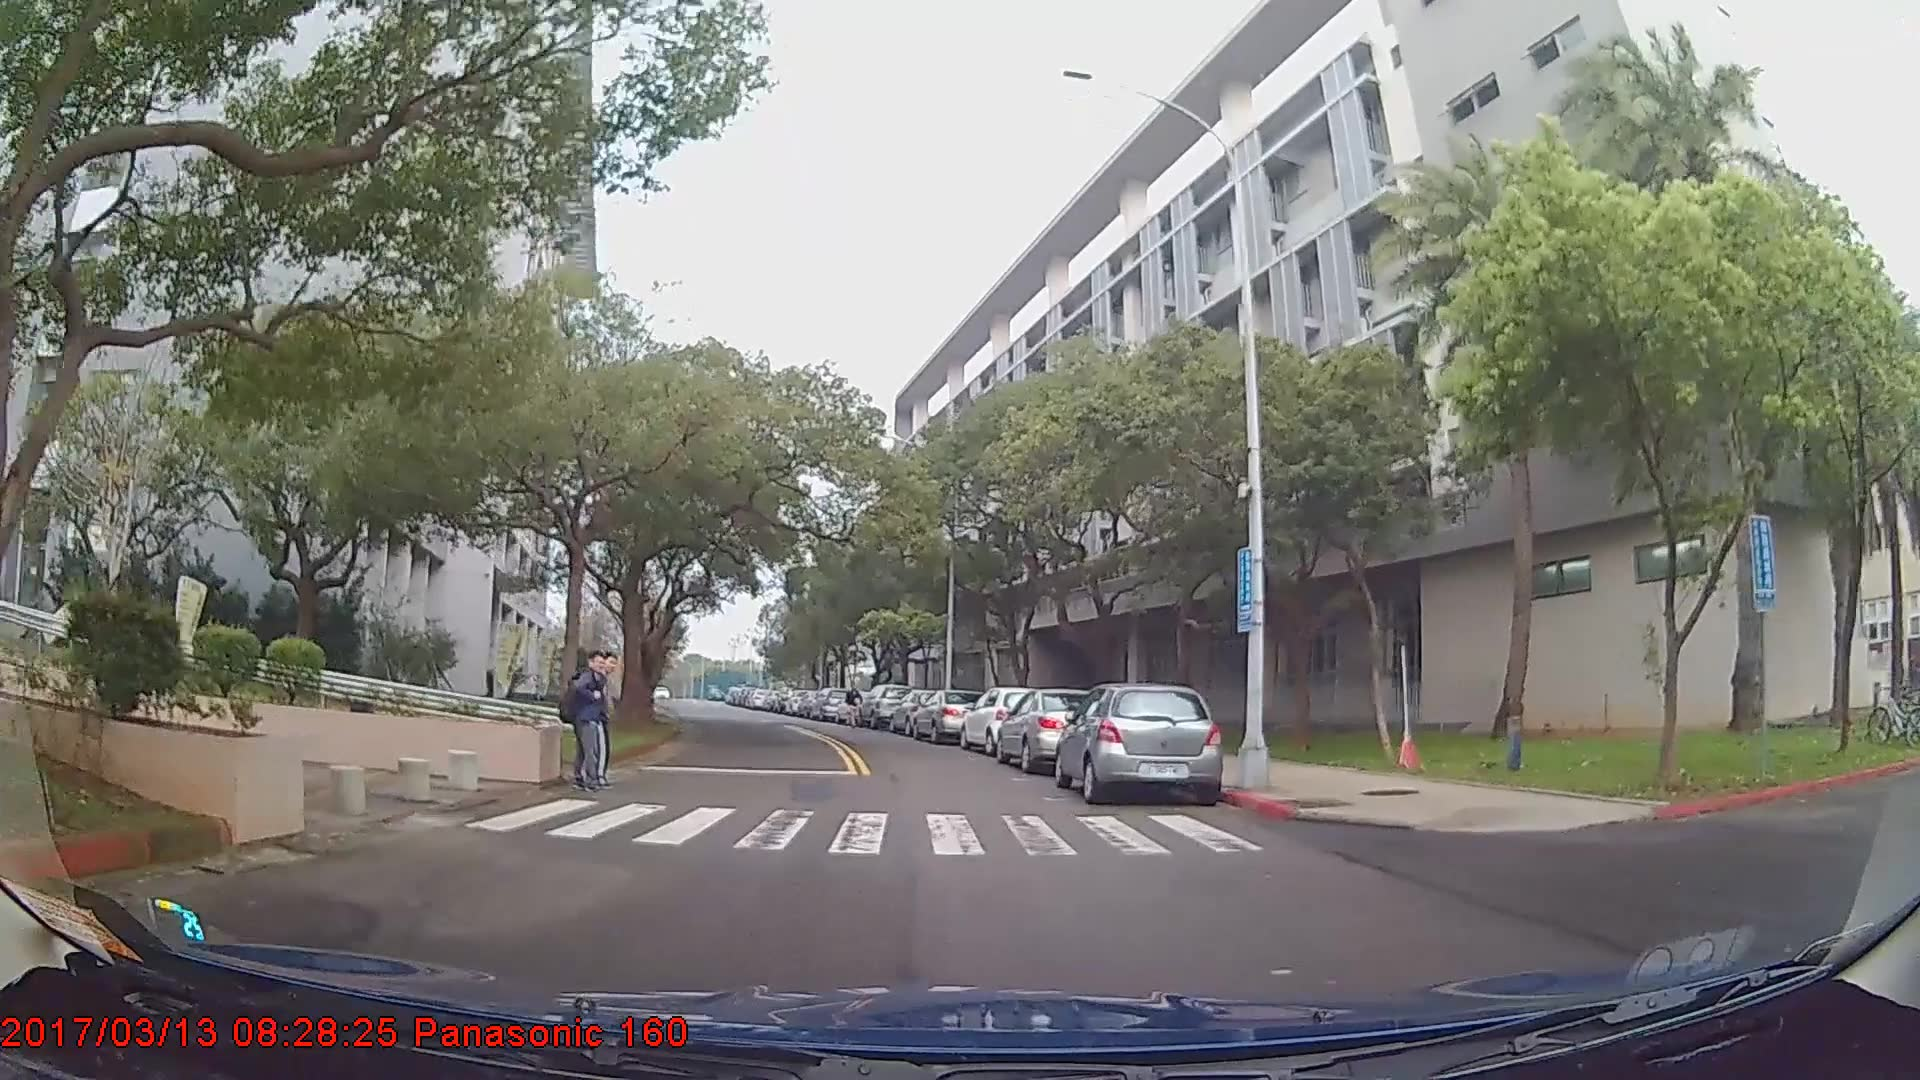pedestrian: (559, 653, 615, 796), (845, 681, 865, 732)
vehicle: (1055, 681, 1223, 804), (993, 687, 1105, 774), (959, 686, 1052, 758), (909, 686, 988, 744), (856, 681, 913, 727), (813, 686, 850, 722)
